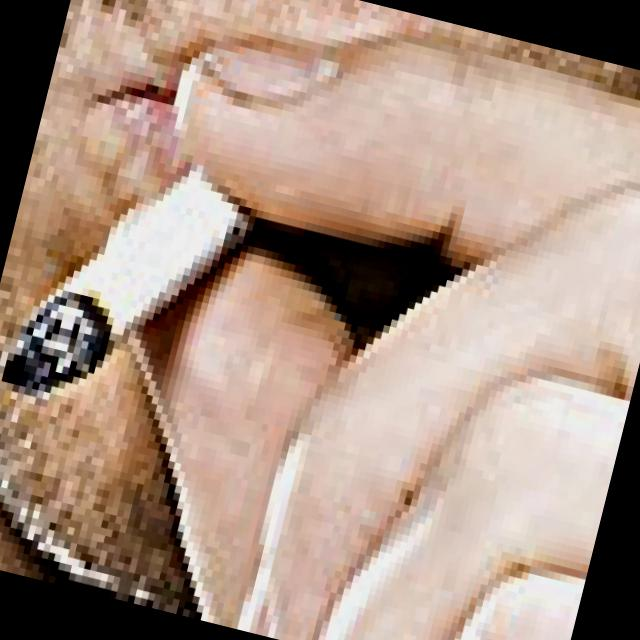smoke: (0, 141, 201, 431)
